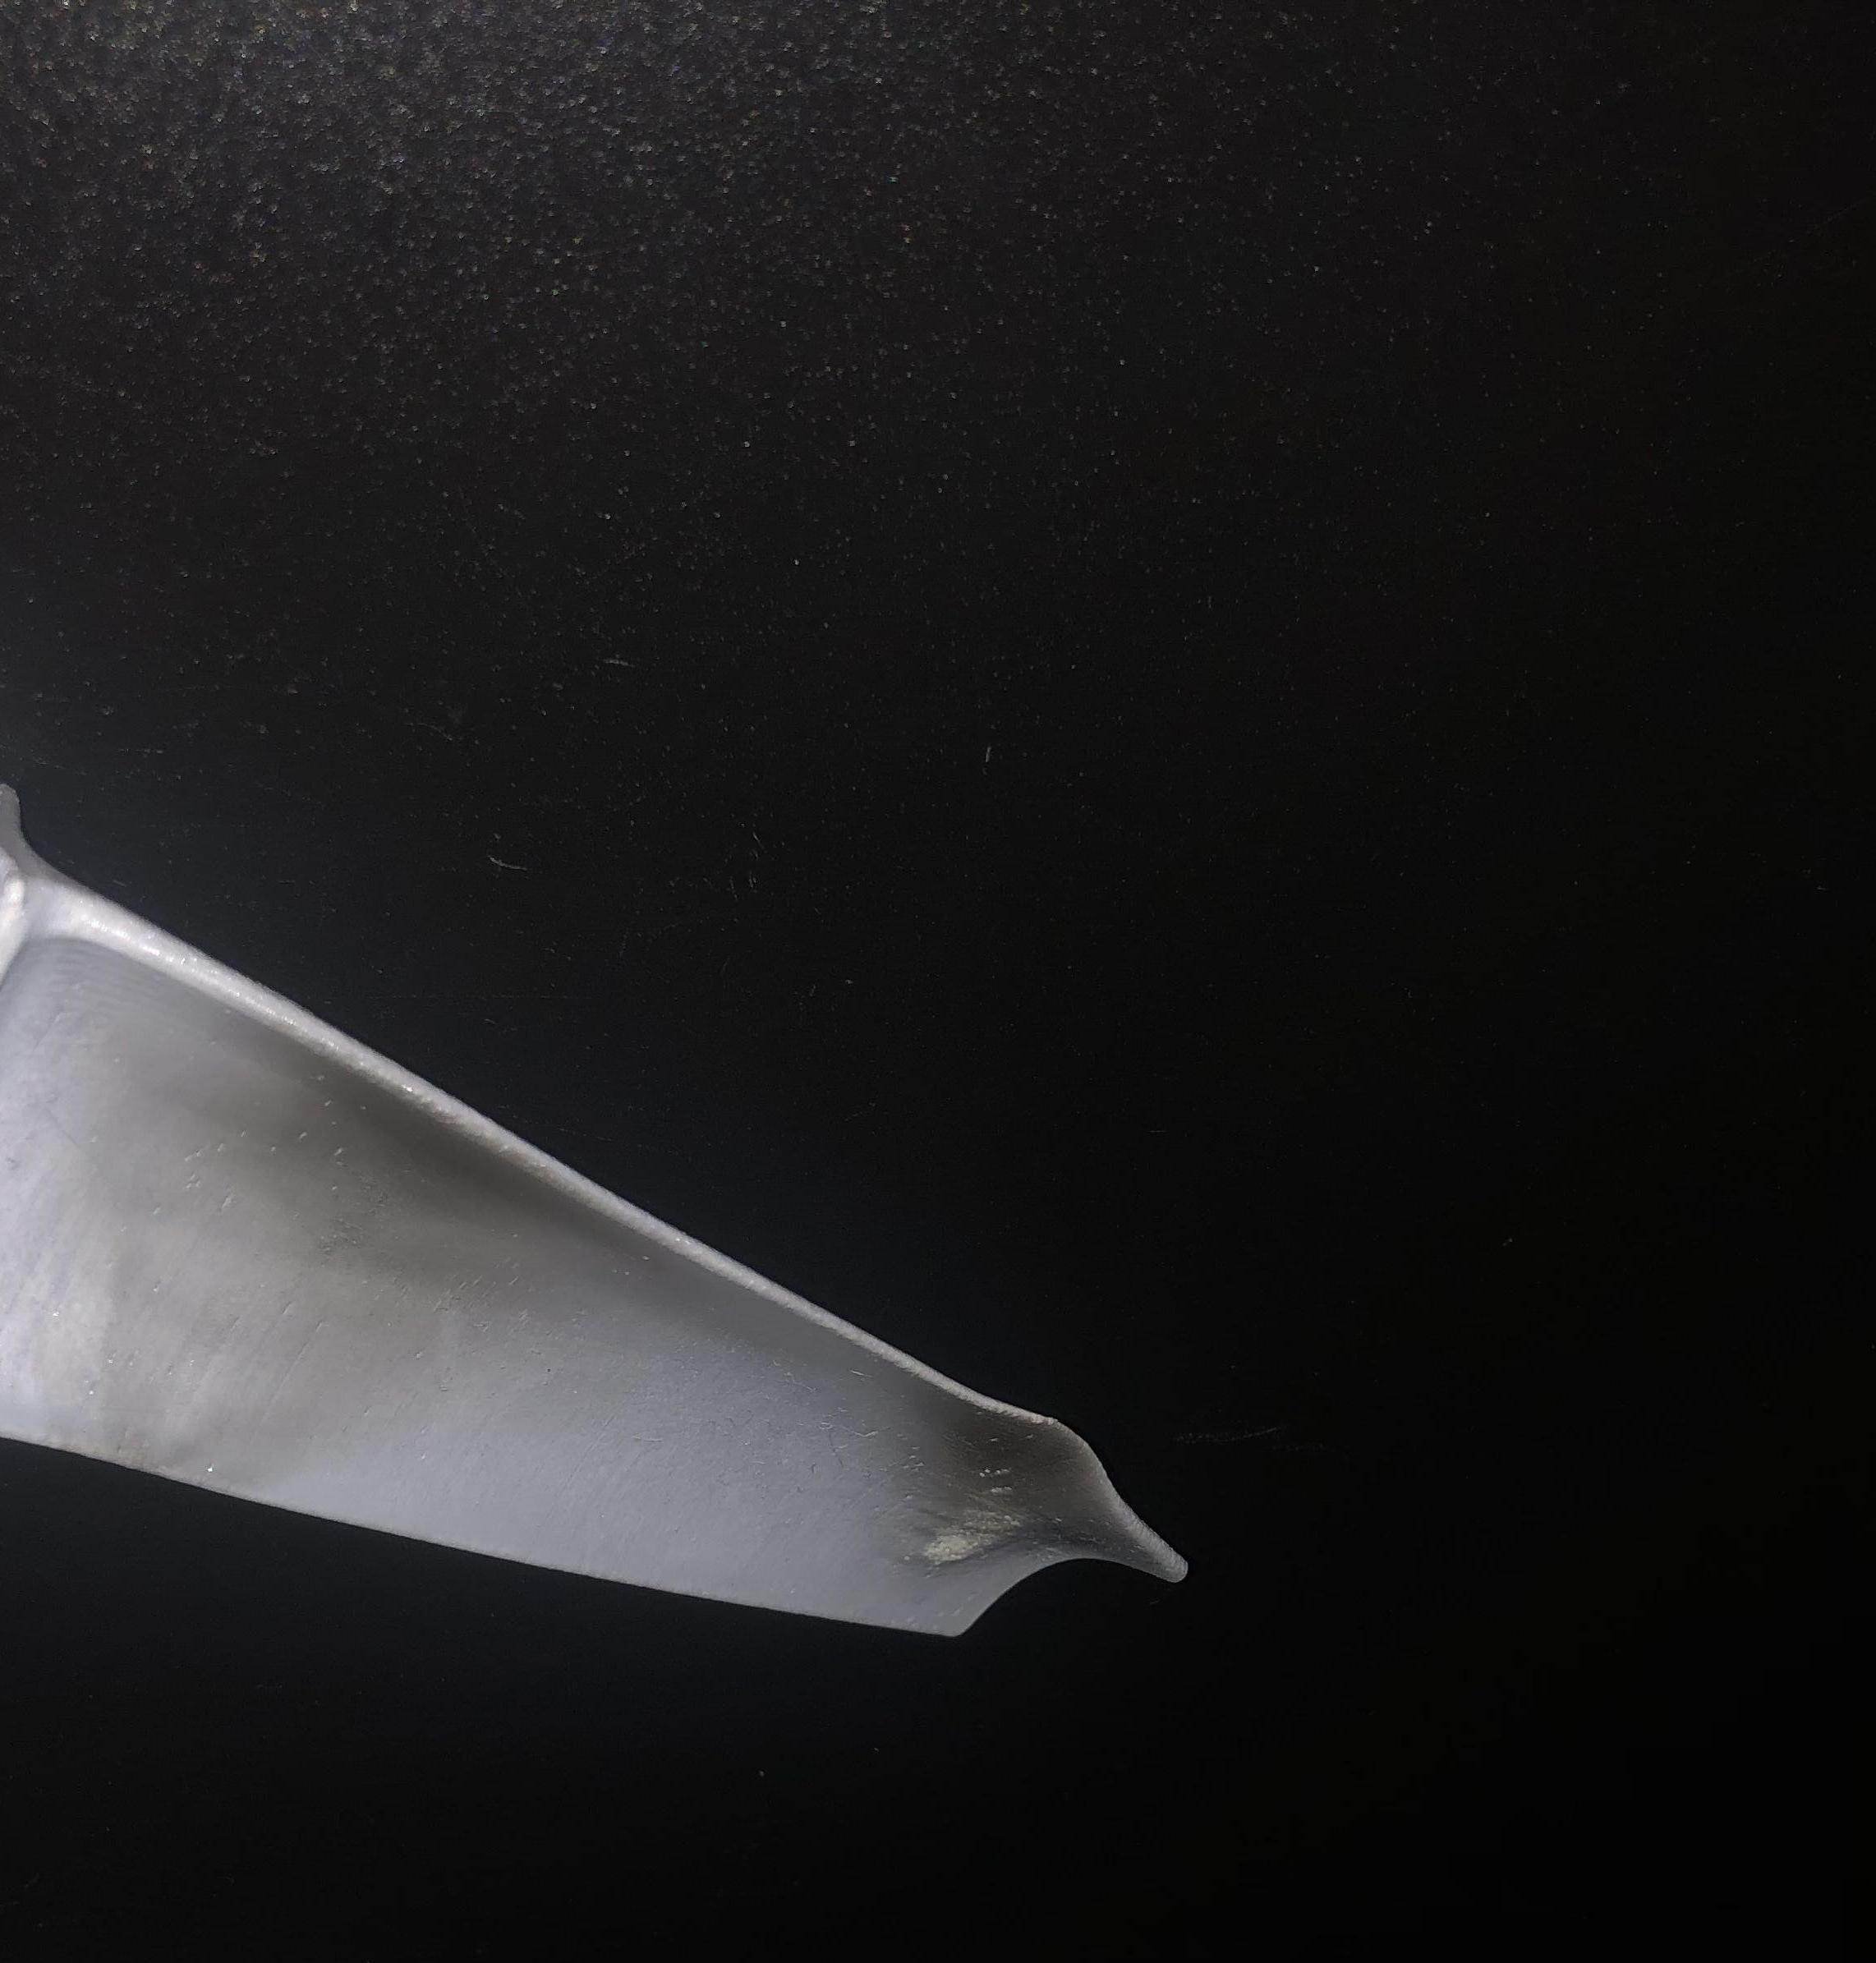ablation: (286, 1066, 561, 1302), (917, 1379, 1119, 1560)
